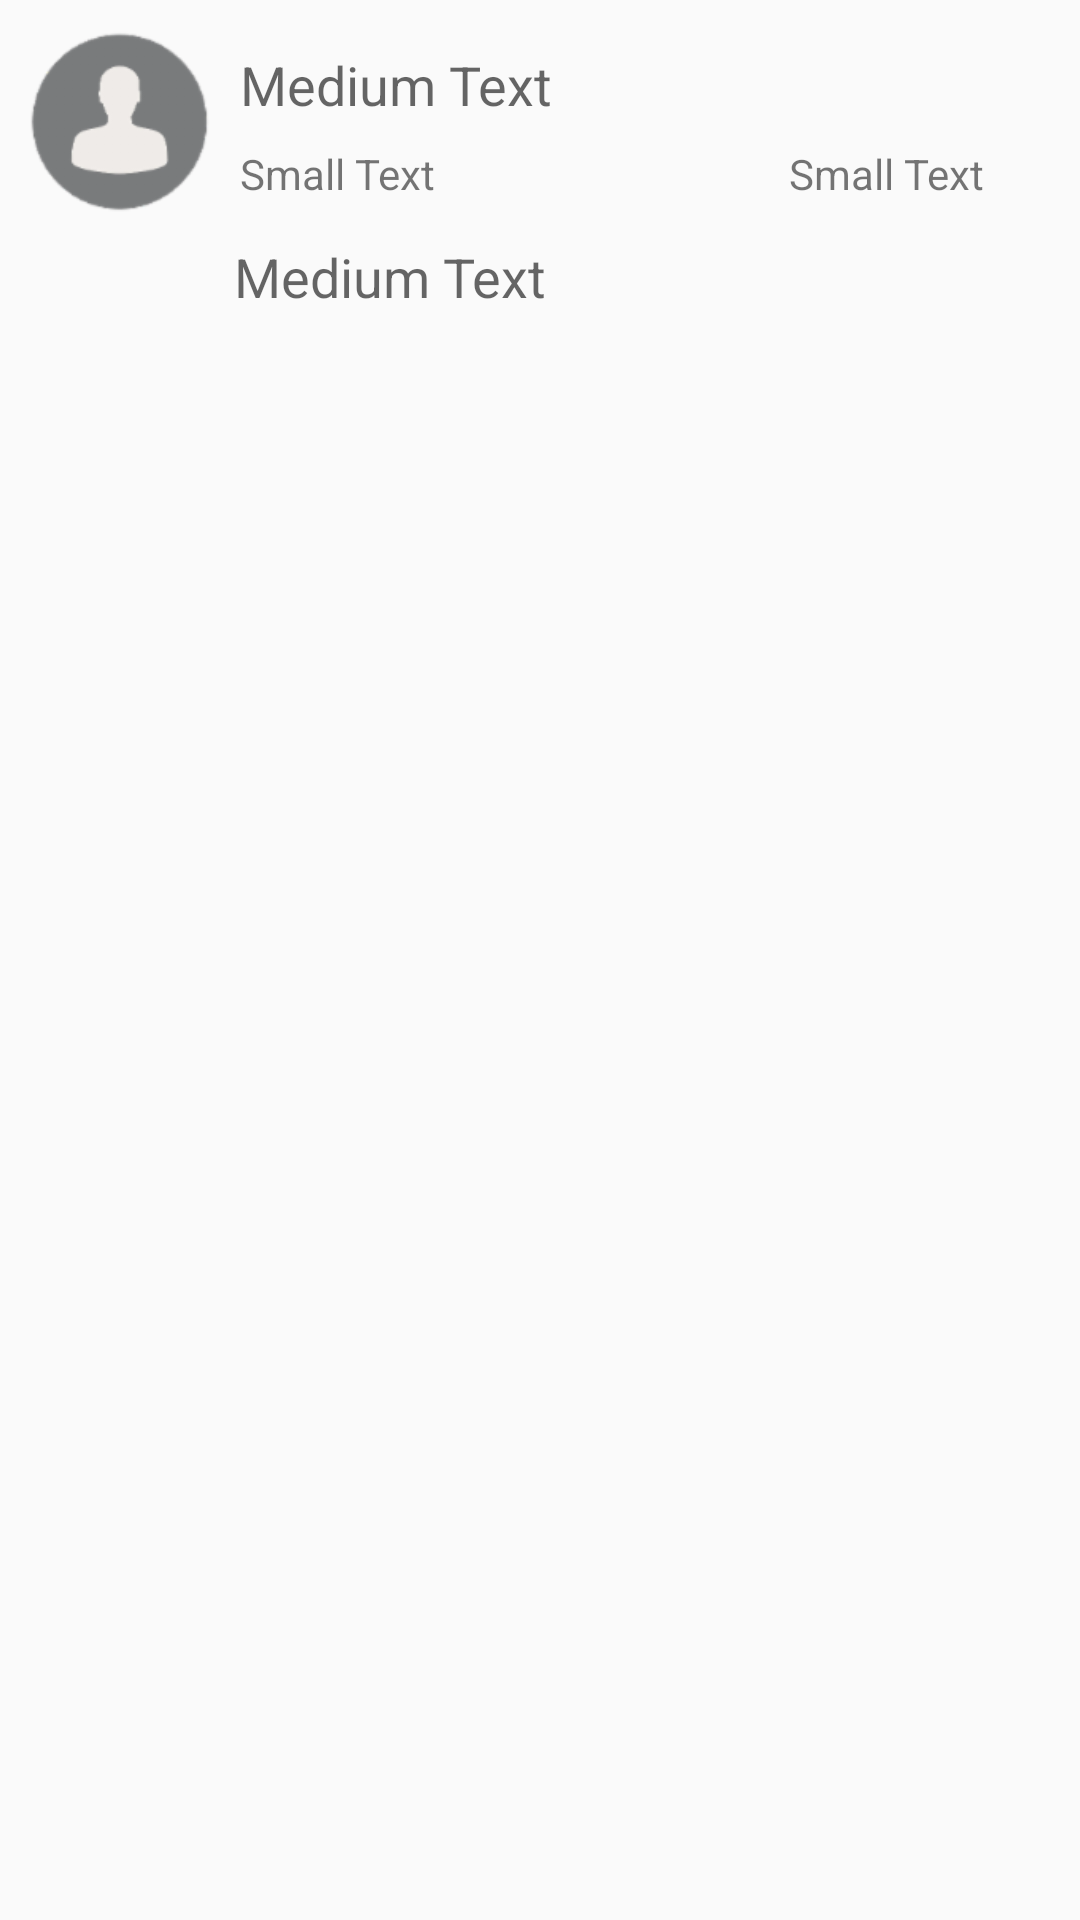

Point at icon controls on the screen. Image size 1080px x 1920px, points as (x,y).
user: (119,122)
